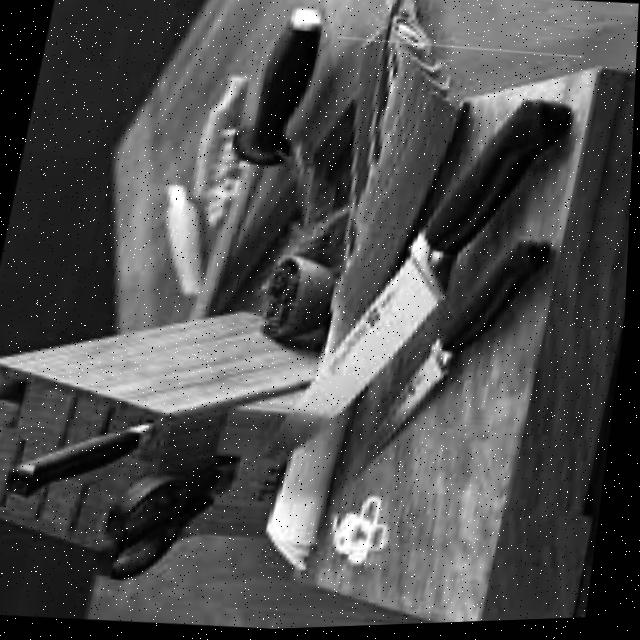knife: (259, 79, 578, 482), (349, 230, 554, 502)
